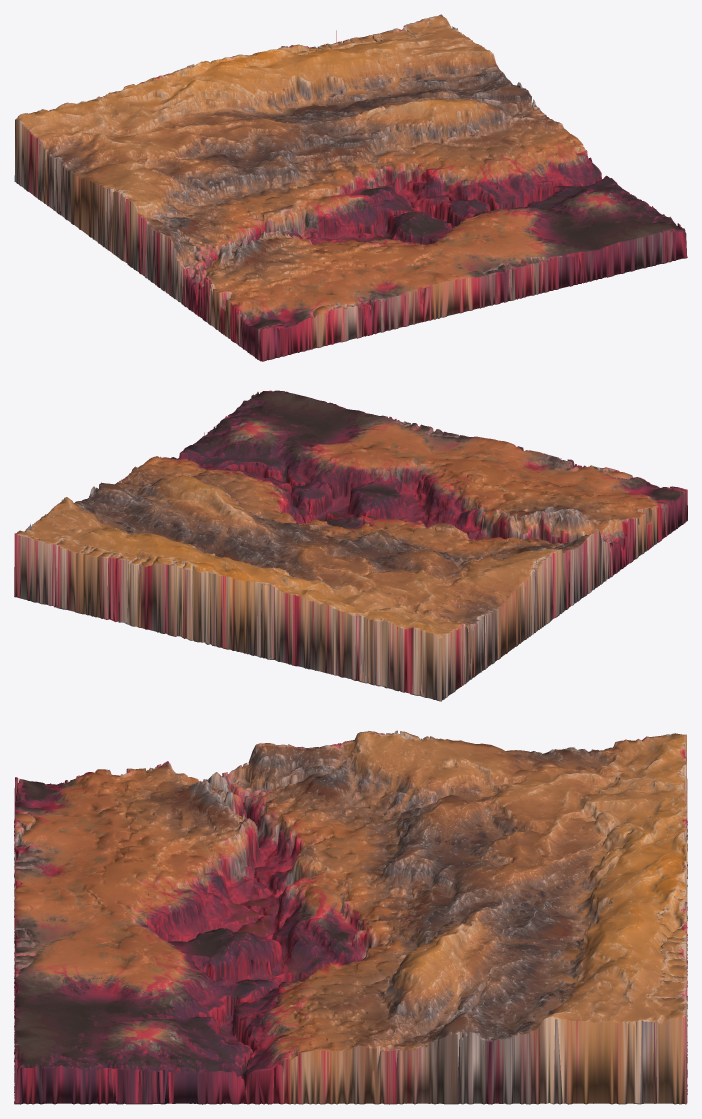
Rendered from TectonicSeabed.glb.
3 renders of one model, top to bottom at view 1: azimuth 30°, elevation 25°; view 2: azimuth 150°, elevation 25°; view 3: azimuth 270°, elevation 25°, orthographic. The views are drawn at different scales.
Parts seen in each view (by area): view 1: Mesher_LOD1.002; view 2: Mesher_LOD1.002; view 3: Mesher_LOD1.002.
Part boxes in pixels (bbox=[...]): Mesher_LOD1.002: bbox=[14, 14, 687, 361]; Mesher_LOD1.002: bbox=[14, 390, 687, 701]; Mesher_LOD1.002: bbox=[14, 730, 687, 1104].
Size of the model in its own units: 0.9998 by 0.1745 by 1.
1 material, 1 textured.
